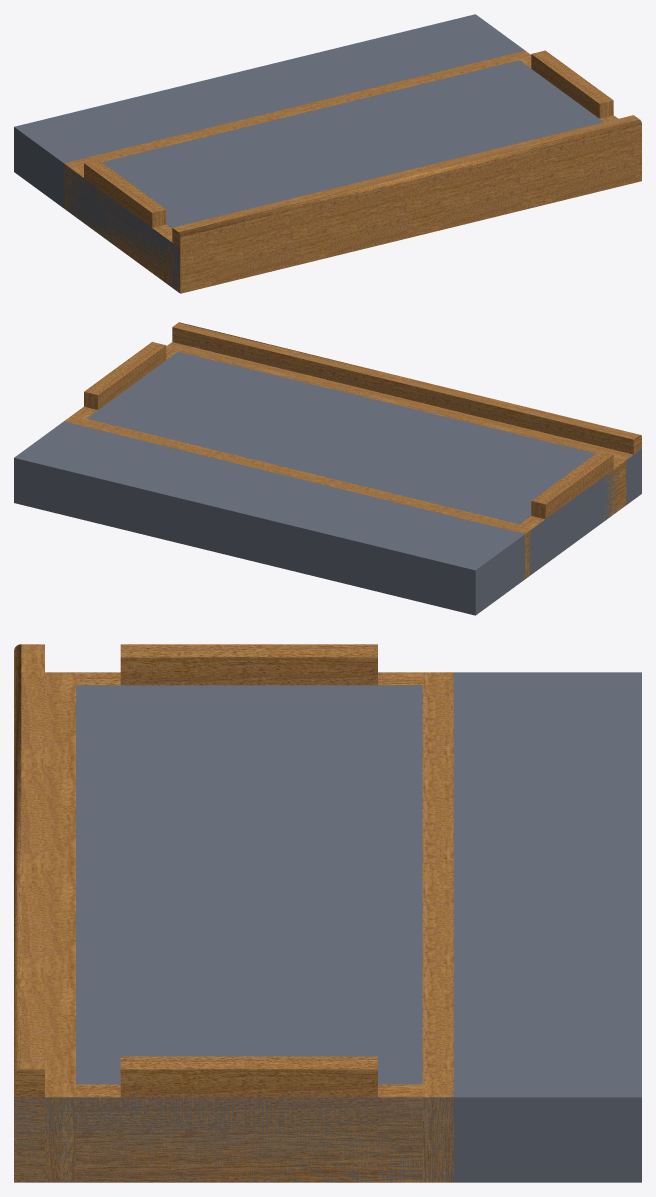
The model's file is VCKS0010.glb.
3 views of the same model, one above another, from view 1: azimuth 30°, elevation 25°; view 2: azimuth 150°, elevation 25°; view 3: azimuth 270°, elevation 25° (orthographic). The views are drawn at different scales.
Visible parts, largest first — view 1: _bb0, G-Group#43; view 2: _bb0, G-Group#43; view 3: _bb0, G-Group#43.
Boxes of the visible parts, left/top/right/bottom form: _bb0: left=14, top=14, right=603, bottom=293; G-Group#43: left=64, top=50, right=641, bottom=293; _bb0: left=14, top=346, right=641, bottom=615; G-Group#43: left=64, top=322, right=641, bottom=578; _bb0: left=14, top=672, right=641, bottom=1182; G-Group#43: left=14, top=644, right=453, bottom=1182.
Bounding box in the file's own units: 0.406 × 0.0505 × 0.2535.
3 materials, 2 textured.
